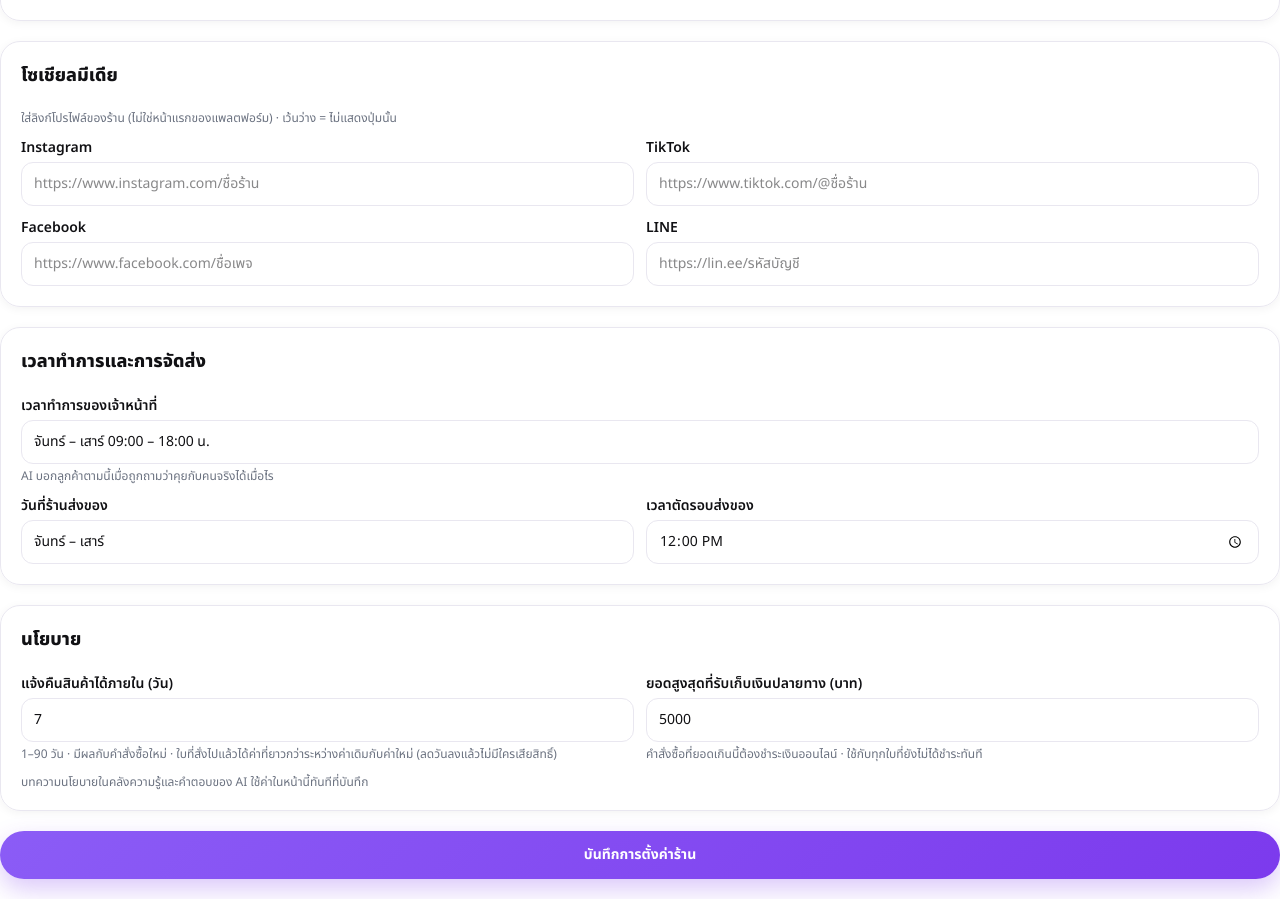
Test case: StoreSettingsForm › ตัวเลขพิมพ์ผิด → ไม่ส่งอะไรขึ้นไป และบอกว่าผิดตรงไหน
The image size is (1280, 899).
(page scrolled)
Replace the text in the field labelled "ยอดสูงสุดที่รับเก็บเงินปลายทาง (บาท)" with "ห้าพัน" at (952, 720), box [646,698,1259,742]
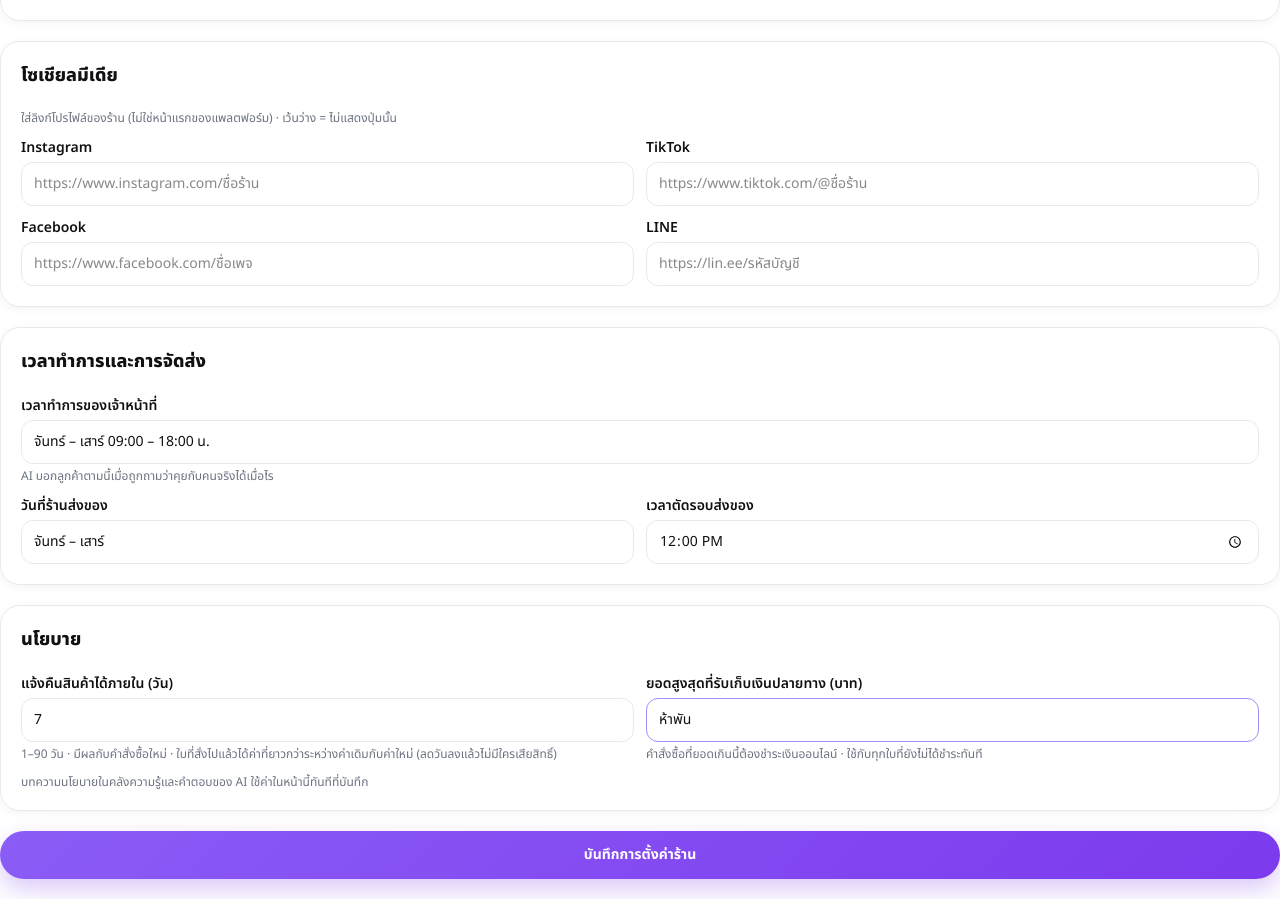
Click the button "บันทึกการตั้งค่าร้าน" at (640, 855), box [0,831,1279,879]
(page scrolled)
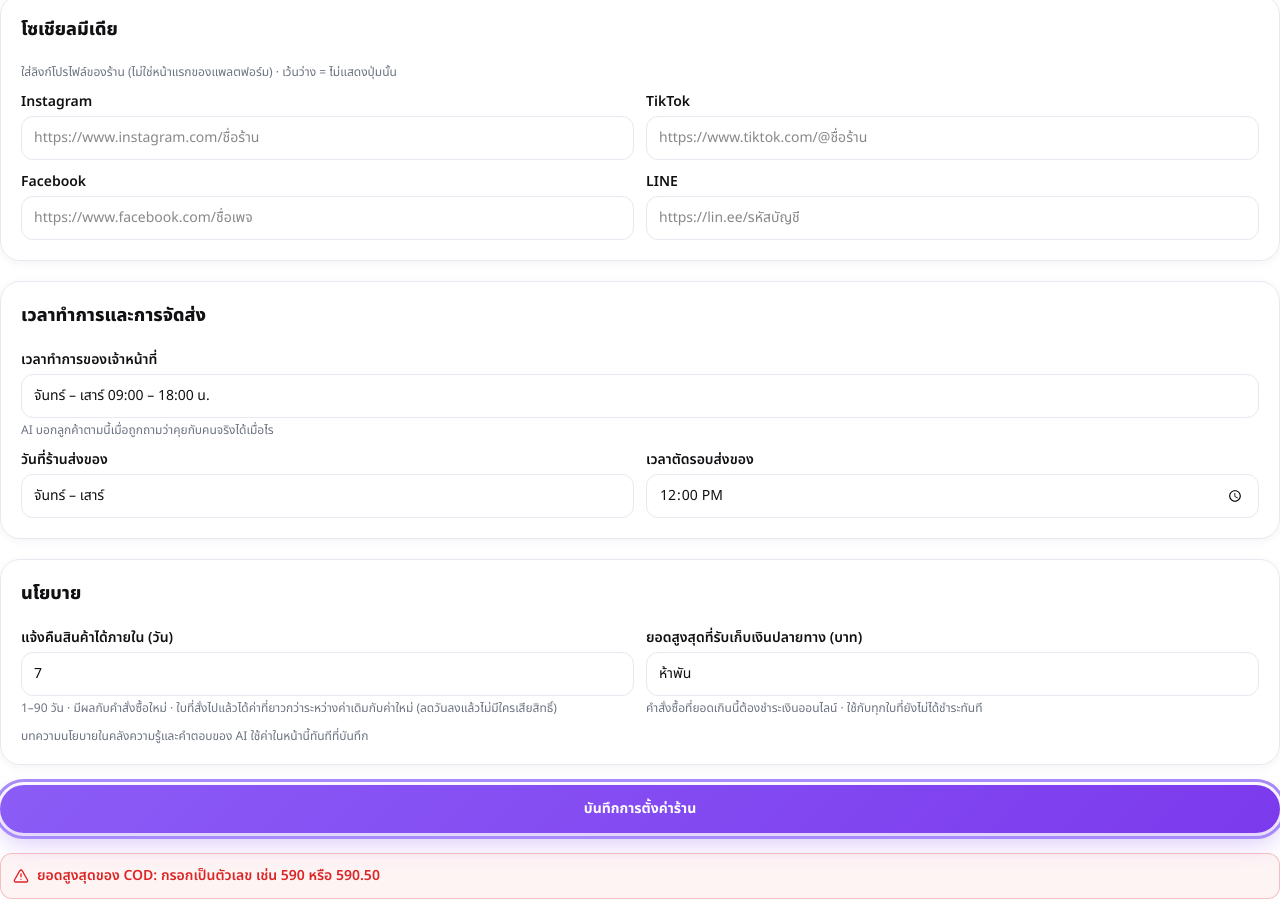
expect the message shows "COD": met, box [37,865,380,886]
